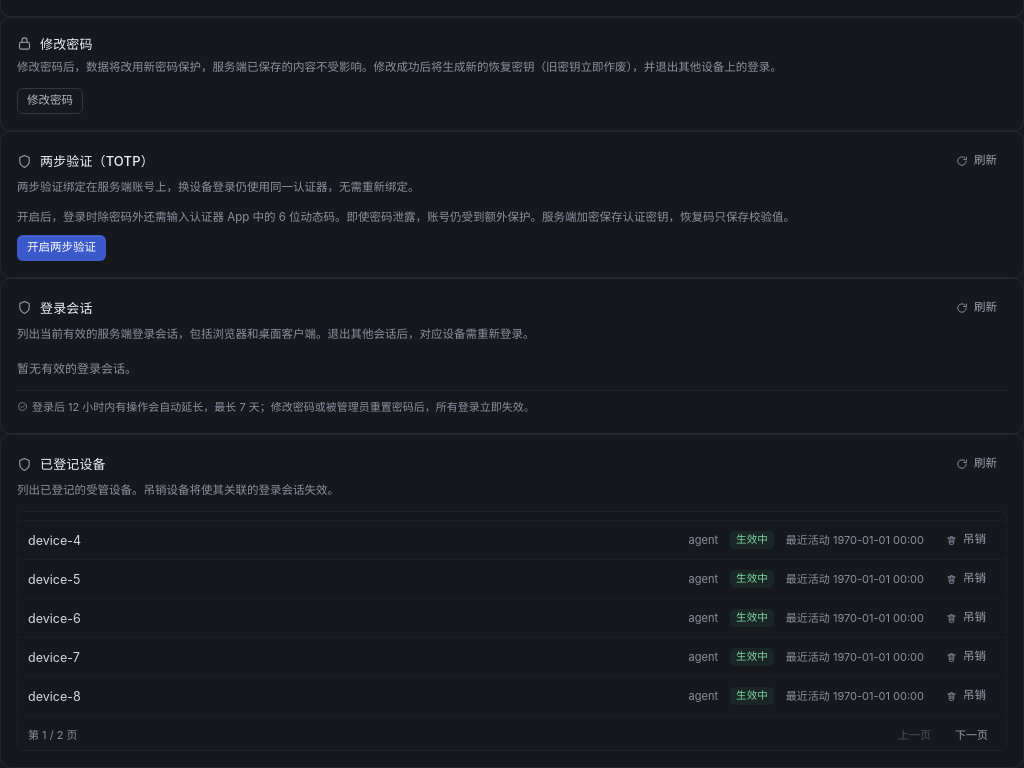
Test: registered device list › pages long device lists
(page scrolled)
Click the button "下一页".
click(972, 735)  # box [947,724,996,746]
(page scrolled)
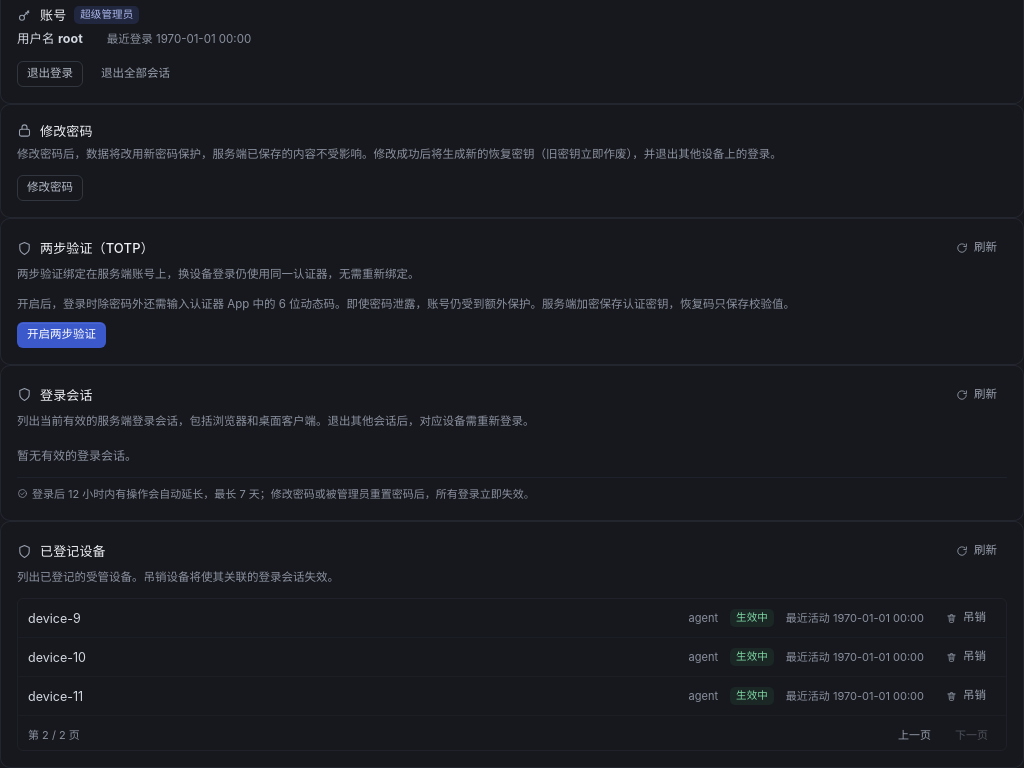
Now the text "device-9" is shown, box [28,611,81,626]
Now the text "第 2 / 2 页" is shown, box [28,727,80,744]
